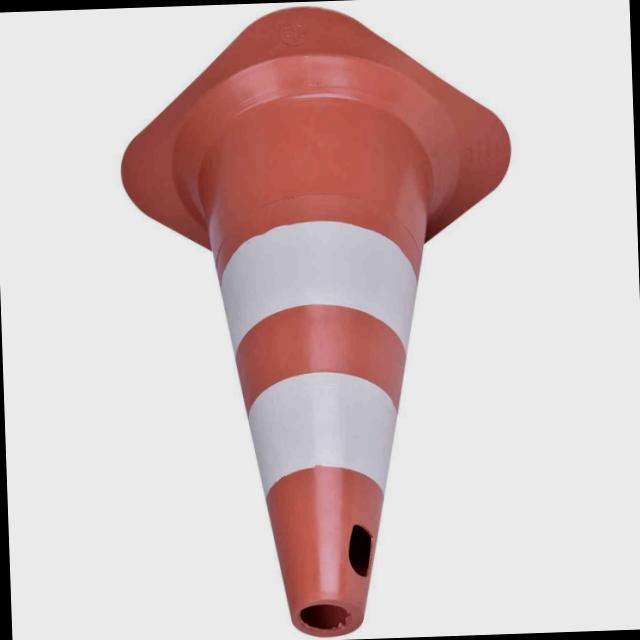cone: (63, 0, 546, 640)
